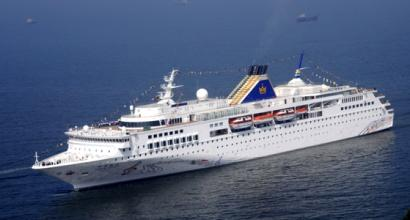youlun: (31, 56, 391, 188)
